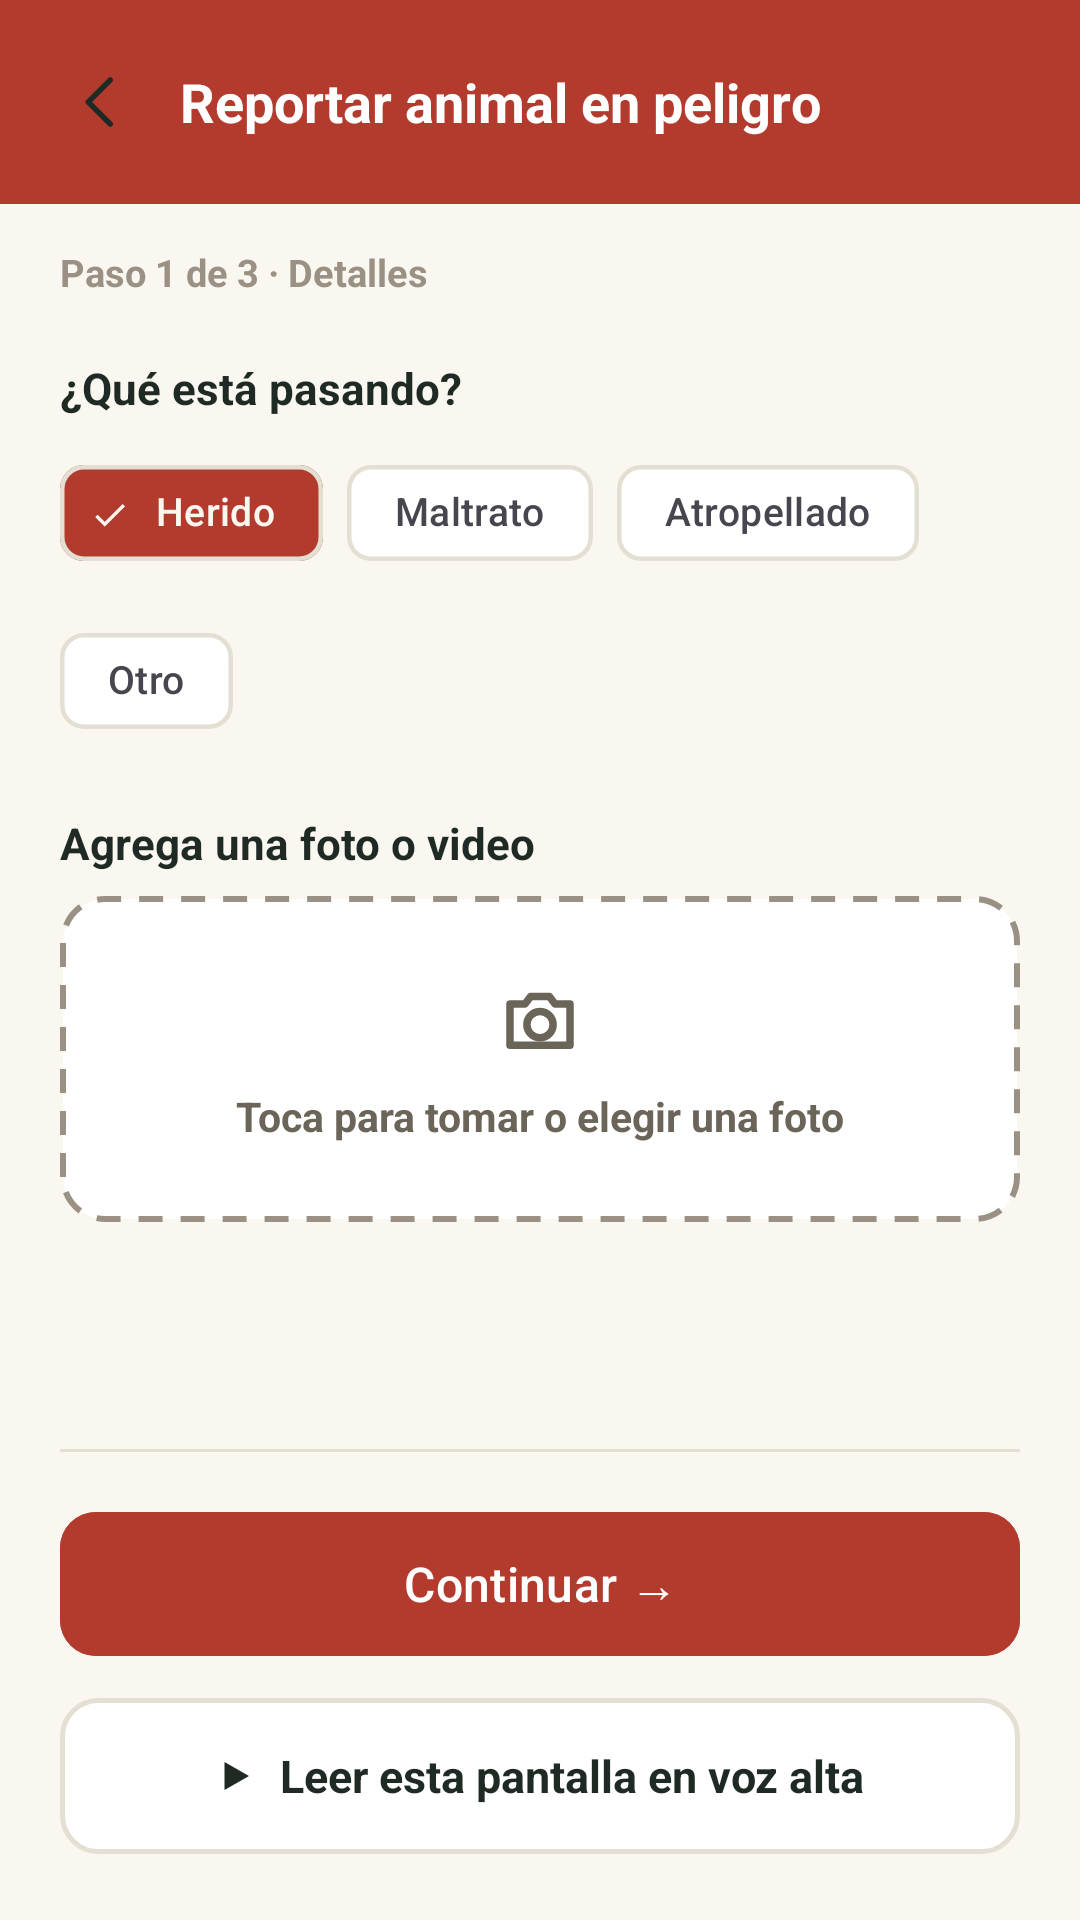

Named icons in this screenshot (1080x1920) and their centers, [x,y]:
camera: [540,1020]
play: [236,1776]
Volver: [99,102]
